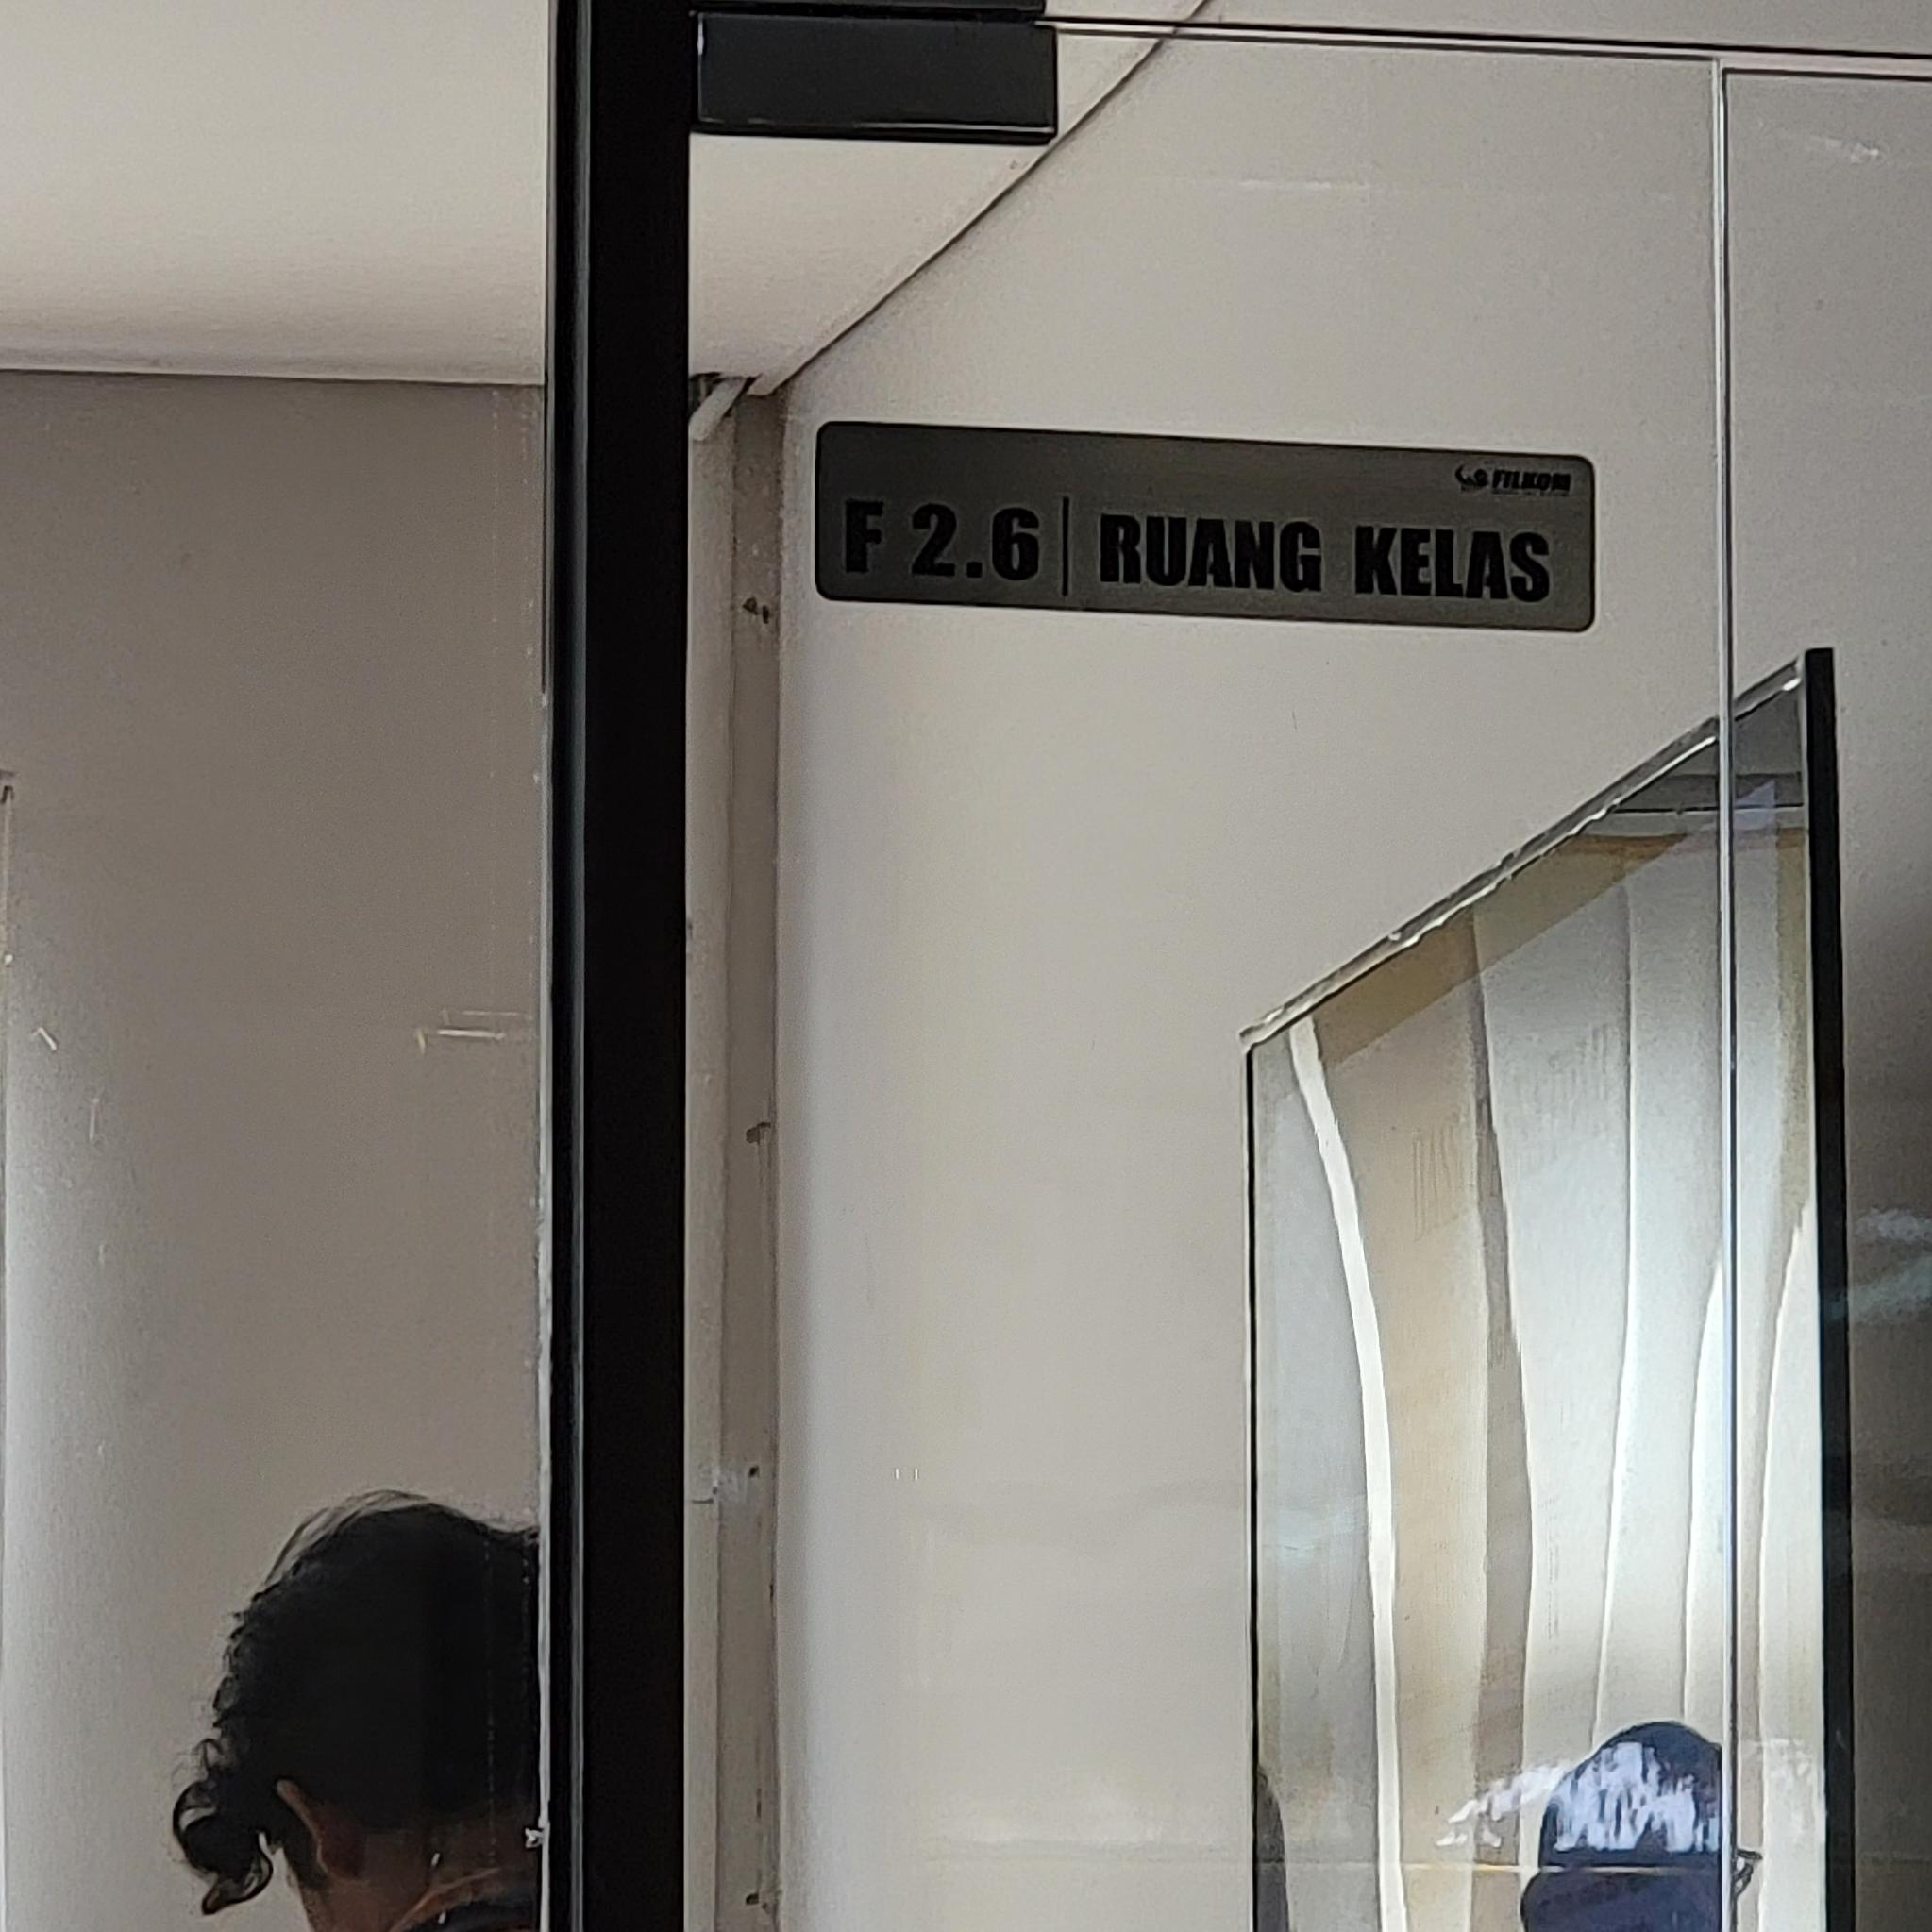plate: (814, 418, 1598, 637)
